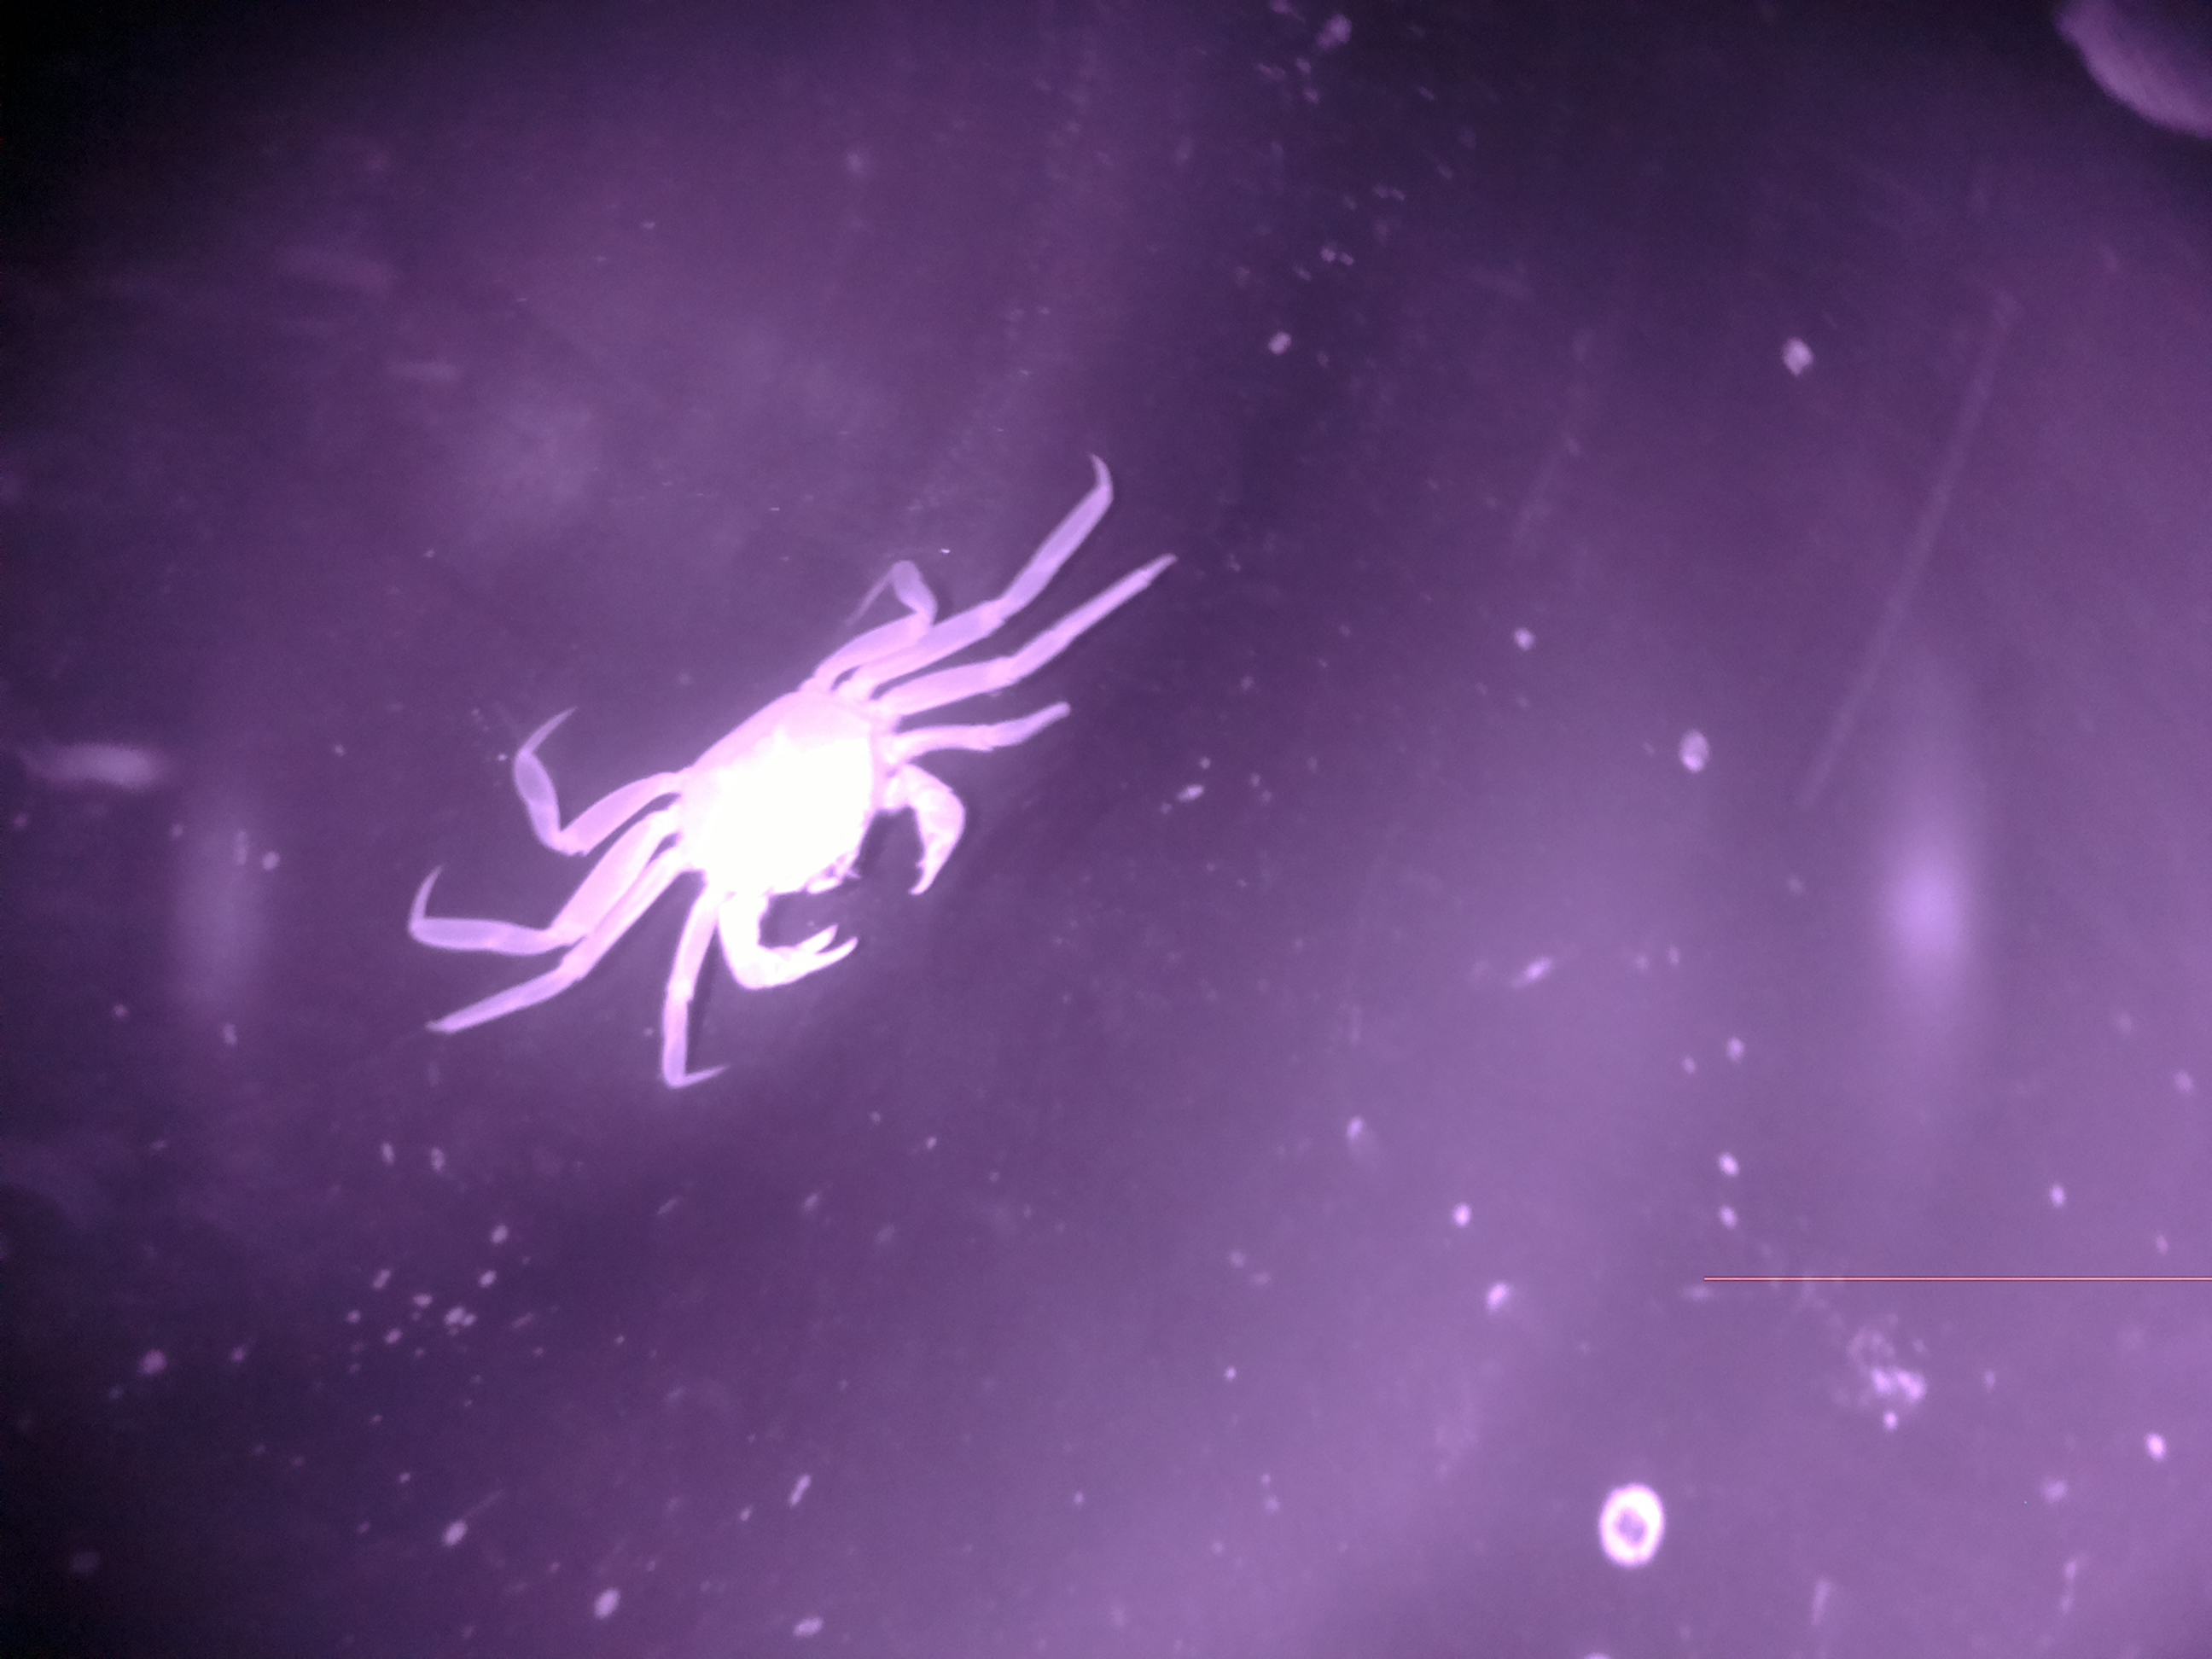Crab: (399, 408, 1186, 1161)
